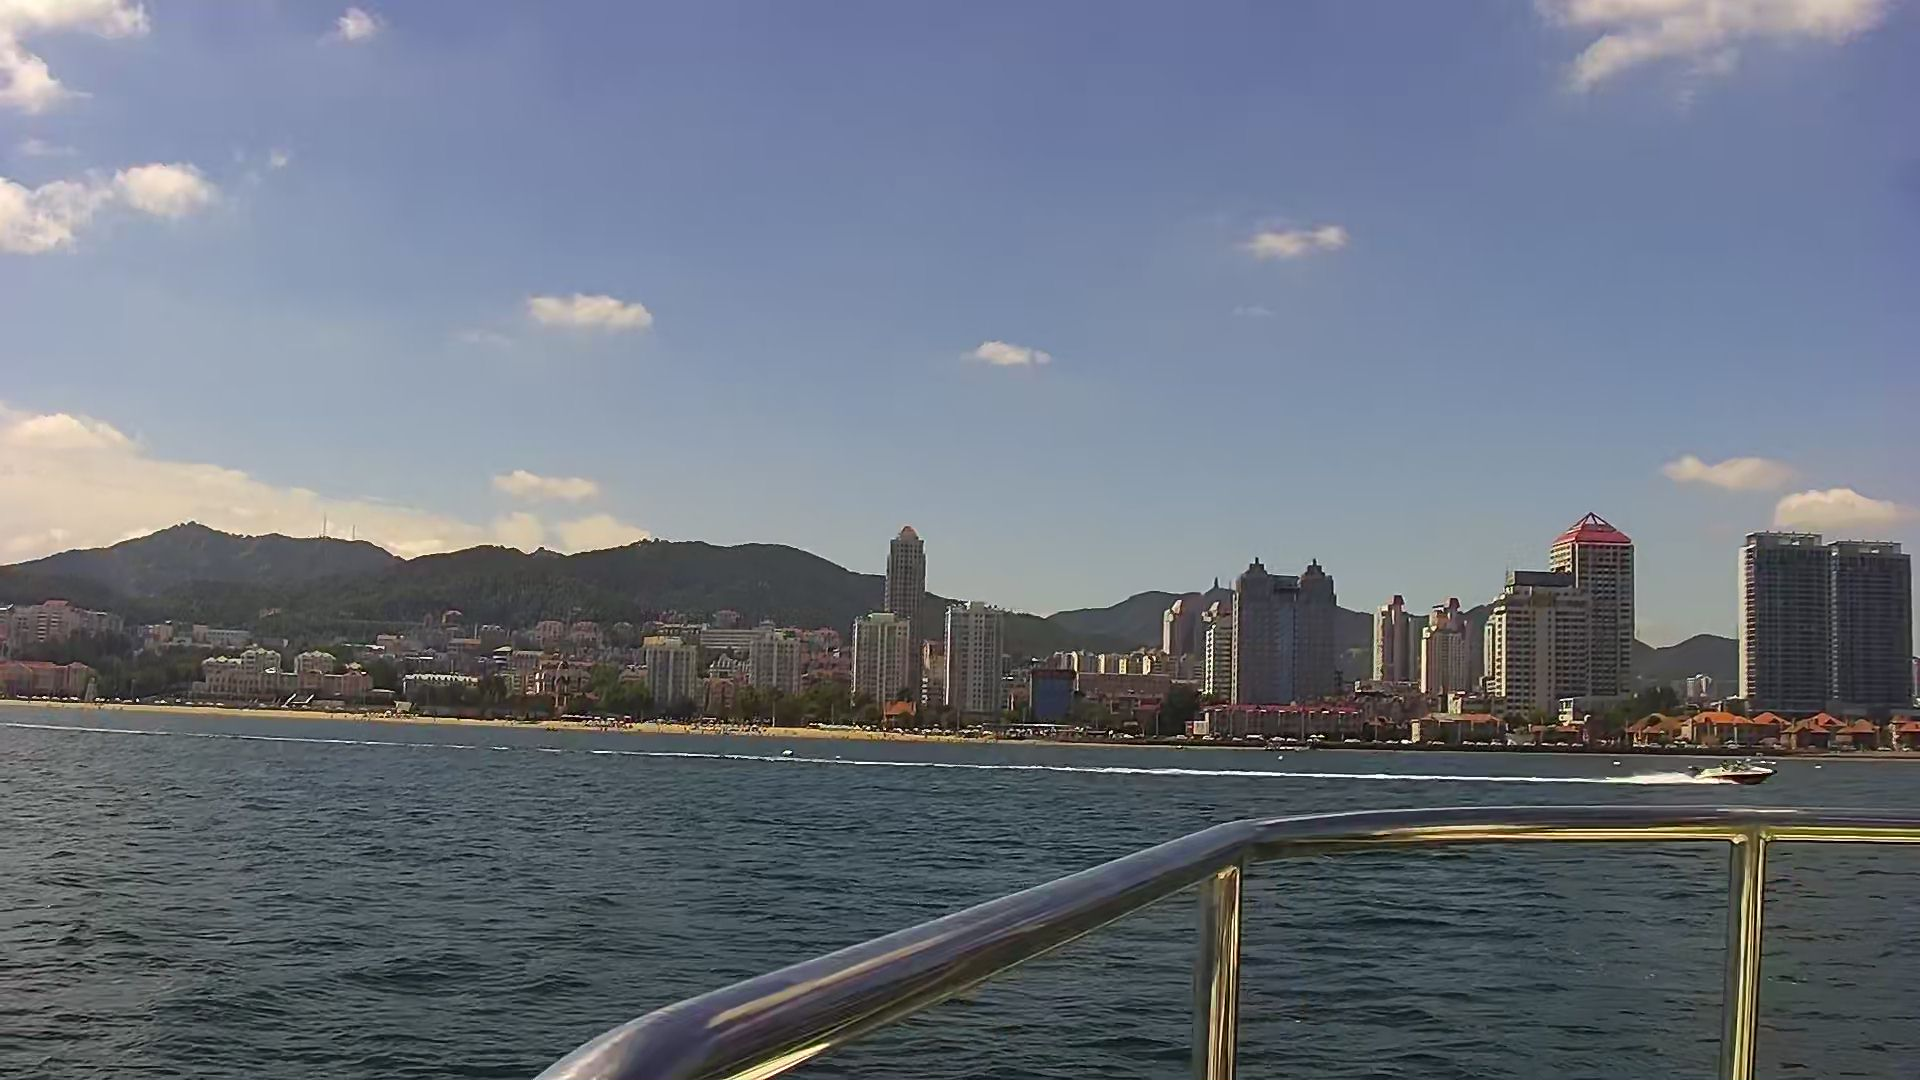boat: (1688, 756, 1778, 790)
